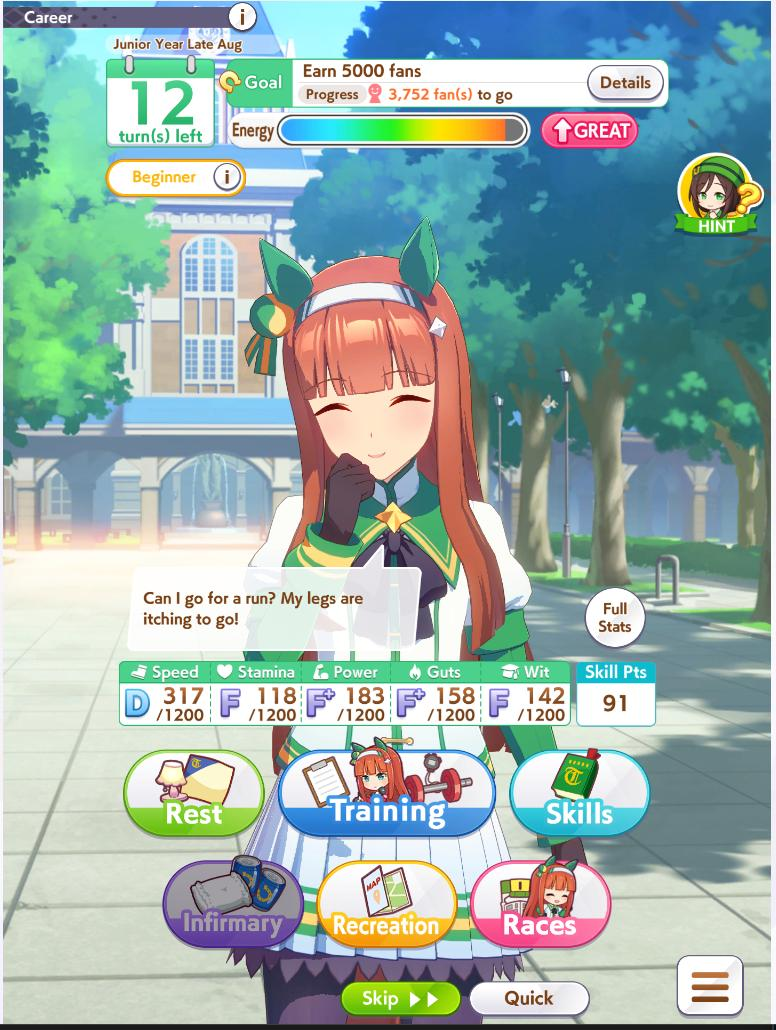Energy: (220, 109, 538, 154)
Race: (470, 859, 615, 949)
goal: (216, 53, 674, 113)
training: (280, 747, 501, 840)
turns: (96, 50, 218, 152)
